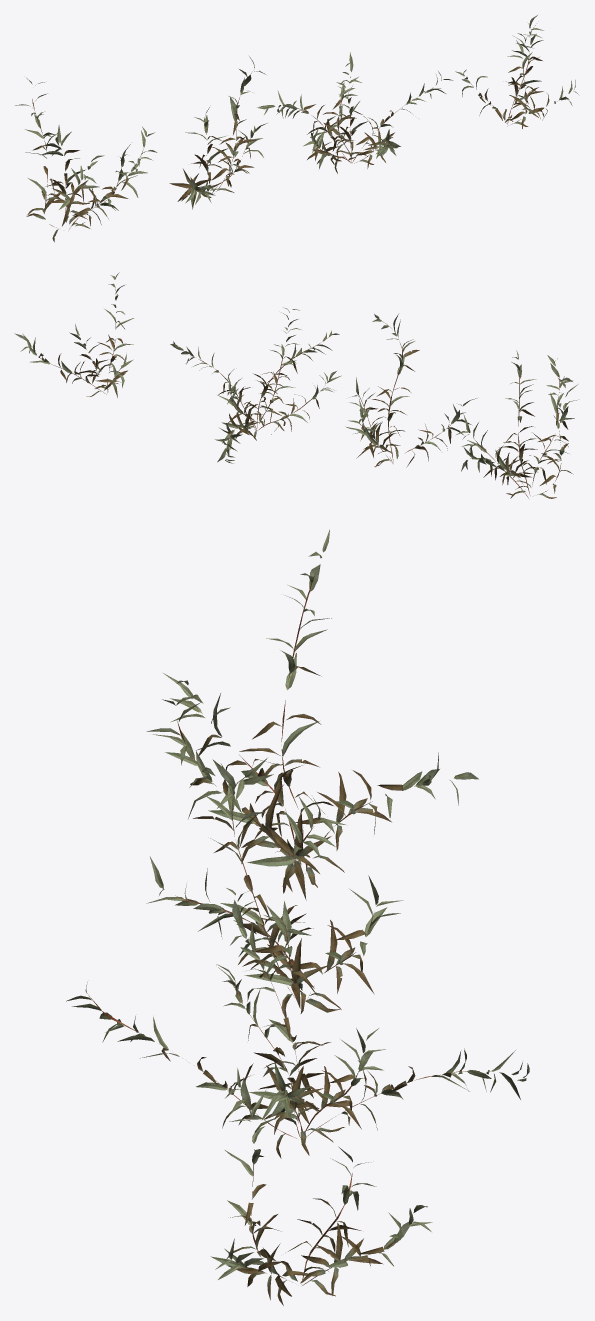
The model's file is shrub_02_wood.glb.
3 views of the same model, one above another, from view 1: azimuth 30°, elevation 25°; view 2: azimuth 150°, elevation 25°; view 3: azimuth 270°, elevation 25° (orthographic). The views are drawn at different scales.
Parts seen in each view (by area): view 1: shrub_02_c, shrub_02_a, shrub_02_b, shrub_02_d; view 2: shrub_02_c, shrub_02_a, shrub_02_b, shrub_02_d; view 3: shrub_02_a, shrub_02_c, shrub_02_b, shrub_02_d.
Boxes of the visible parts, x1,y1,x2,y2 form: shrub_02_c: [257, 52, 453, 173]; shrub_02_a: [15, 78, 157, 242]; shrub_02_b: [169, 56, 267, 209]; shrub_02_d: [455, 15, 579, 128]; shrub_02_c: [170, 307, 341, 463]; shrub_02_a: [456, 350, 578, 498]; shrub_02_b: [345, 314, 477, 467]; shrub_02_d: [14, 272, 133, 397]; shrub_02_a: [146, 529, 478, 900]; shrub_02_c: [66, 888, 529, 1158]; shrub_02_b: [146, 758, 403, 1017]; shrub_02_d: [210, 1068, 432, 1305].
Bounding box in the file's own units: 6.05 × 1.7 × 2.29.
1 material, 1 textured.
